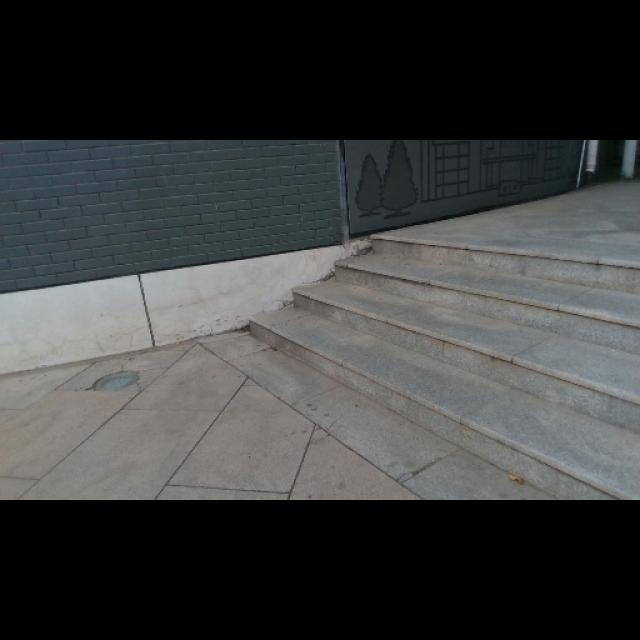Stairs: (247, 235, 638, 500)
